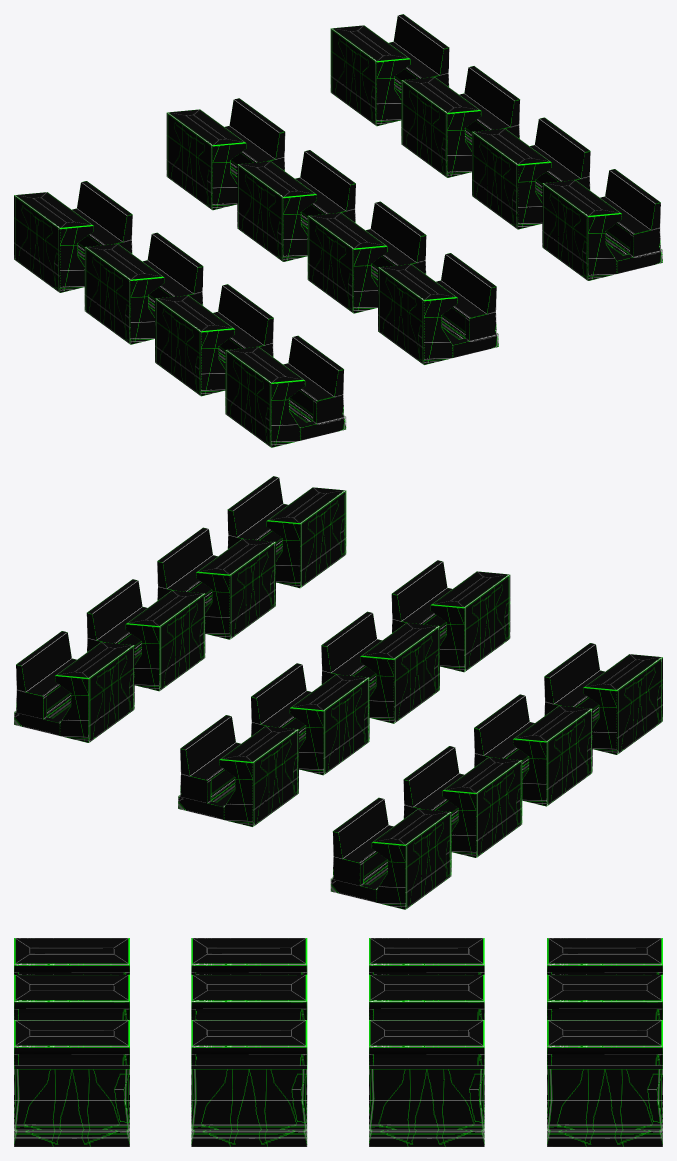
File: kursi.FBX
The picture shows the model from 3 angles, top to bottom: view 1: azimuth 30°, elevation 25°; view 2: azimuth 150°, elevation 25°; view 3: azimuth 270°, elevation 25°; orthographic projection. The views are drawn at different scales.
Visible parts, largest first — view 1: kursi meja001, kursi meja009, kursi meja005, kursi meja010, kursi meja006, kursi meja003, kursi meja004, kursi meja011, kursi meja007, kursi meja002, kursi meja, kursi meja008; view 2: kursi meja002, kursi meja010, kursi meja006, kursi meja003, kursi meja011, kursi meja009, kursi meja007, kursi meja, kursi meja008, kursi meja005, kursi meja004, kursi meja001; view 3: kursi meja008, kursi meja009, kursi meja010, kursi meja011, kursi meja004, kursi meja005, kursi meja006, kursi meja007, kursi meja, kursi meja001, kursi meja002, kursi meja003.
Boxes of the visible parts, x1,y1,x2,y2 form: kursi meja001: (225, 335, 346, 447); kursi meja009: (542, 169, 662, 280); kursi meja005: (378, 253, 498, 364); kursi meja010: (330, 14, 449, 126); kursi meja006: (166, 98, 285, 210); kursi meja003: (84, 232, 203, 344); kursi meja004: (307, 201, 426, 313); kursi meja011: (401, 66, 520, 177); kursi meja007: (237, 150, 355, 261); kursi meja002: (14, 181, 132, 292); kursi meja: (155, 284, 273, 396); kursi meja008: (472, 117, 590, 229); kursi meja002: (330, 797, 451, 909); kursi meja010: (14, 631, 134, 742); kursi meja006: (178, 715, 298, 826); kursi meja003: (403, 746, 522, 857); kursi meja011: (86, 579, 205, 691); kursi meja009: (227, 476, 346, 588); kursi meja007: (251, 663, 369, 775); kursi meja: (474, 694, 592, 806); kursi meja008: (157, 527, 275, 639); kursi meja005: (391, 560, 510, 672); kursi meja004: (321, 611, 439, 723); kursi meja001: (544, 643, 662, 754); kursi meja008: (191, 1020, 307, 1146); kursi meja009: (14, 1020, 129, 1146); kursi meja010: (547, 1020, 662, 1146); kursi meja011: (369, 1020, 484, 1146); kursi meja004: (191, 974, 307, 1019); kursi meja005: (14, 974, 129, 1019); kursi meja006: (547, 974, 662, 1019); kursi meja007: (369, 974, 484, 1019); kursi meja: (191, 938, 307, 974); kursi meja001: (14, 938, 129, 974); kursi meja002: (547, 938, 662, 974); kursi meja003: (369, 938, 484, 974).
Size of the model in its own units: 135 by 50.76 by 154.
